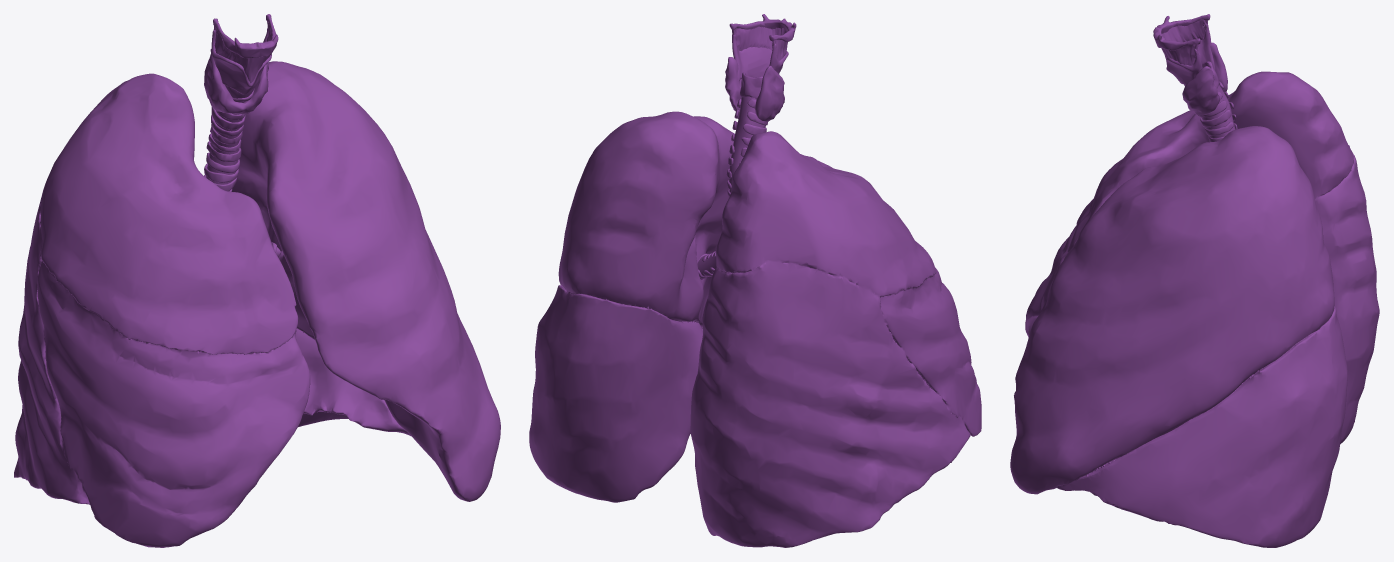
3 renders of one model, left to right at view 1: azimuth 30°, elevation 25°; view 2: azimuth 150°, elevation 25°; view 3: azimuth 270°, elevation 25°, orthographic. The views are drawn at different scales.
Visible parts, largest first — view 1: Linkerlong, Hyoid_bone, Trachea_kraakbeen, Thyroid_gland, bronchi1, Tussen_hyoid_en_thyroid; view 2: Linkerlong, Hyoid_bone, Thyroid_gland, bronchi1, Tussen_hyoid_en_thyroid, Trachea_kraakbeen; view 3: Linkerlong, Hyoid_bone, Thyroid_gland, Tussen_hyoid_en_thyroid, Trachea_kraakbeen.
Part boxes in pixels (<box>): Linkerlong: <box>14,61,500,547</box>; Hyoid_bone: <box>211,14,278,102</box>; Trachea_kraakbeen: <box>204,106,283,262</box>; Thyroid_gland: <box>204,49,268,114</box>; bronchi1: <box>206,85,280,256</box>; Tussen_hyoid_en_thyroid: <box>213,21,271,83</box>; Linkerlong: <box>529,111,981,547</box>; Hyoid_bone: <box>729,14,796,99</box>; Thyroid_gland: <box>725,57,784,121</box>; bronchi1: <box>697,96,765,278</box>; Tussen_hyoid_en_thyroid: <box>732,26,787,60</box>; Trachea_kraakbeen: <box>698,99,767,279</box>; Linkerlong: <box>1010,71,1379,547</box>; Hyoid_bone: <box>1153,14,1219,88</box>; Thyroid_gland: <box>1182,42,1227,115</box>; Tussen_hyoid_en_thyroid: <box>1161,19,1207,65</box>; Trachea_kraakbeen: <box>1197,81,1237,141</box>.
Size of the model in its own units: 2.97 by 3.33 by 2.5.
